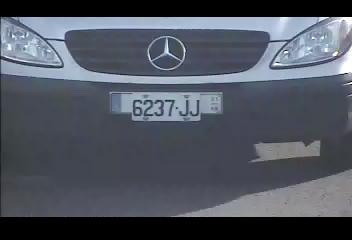plate: (129, 90, 202, 124)
